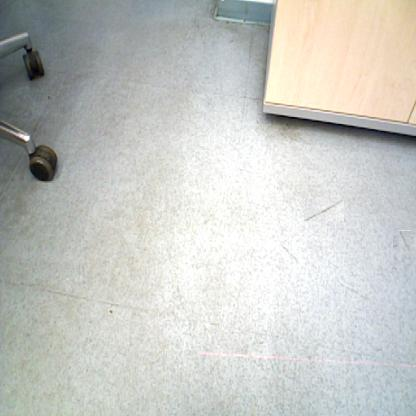mark: (304, 197, 344, 221), (395, 233, 414, 251), (107, 307, 113, 315), (46, 96, 52, 102)
